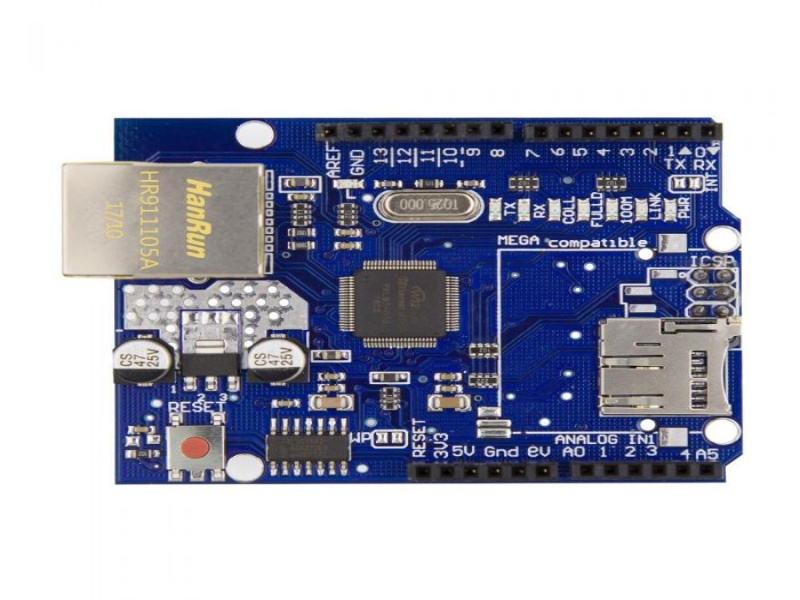uno: (72, 95, 746, 498)
